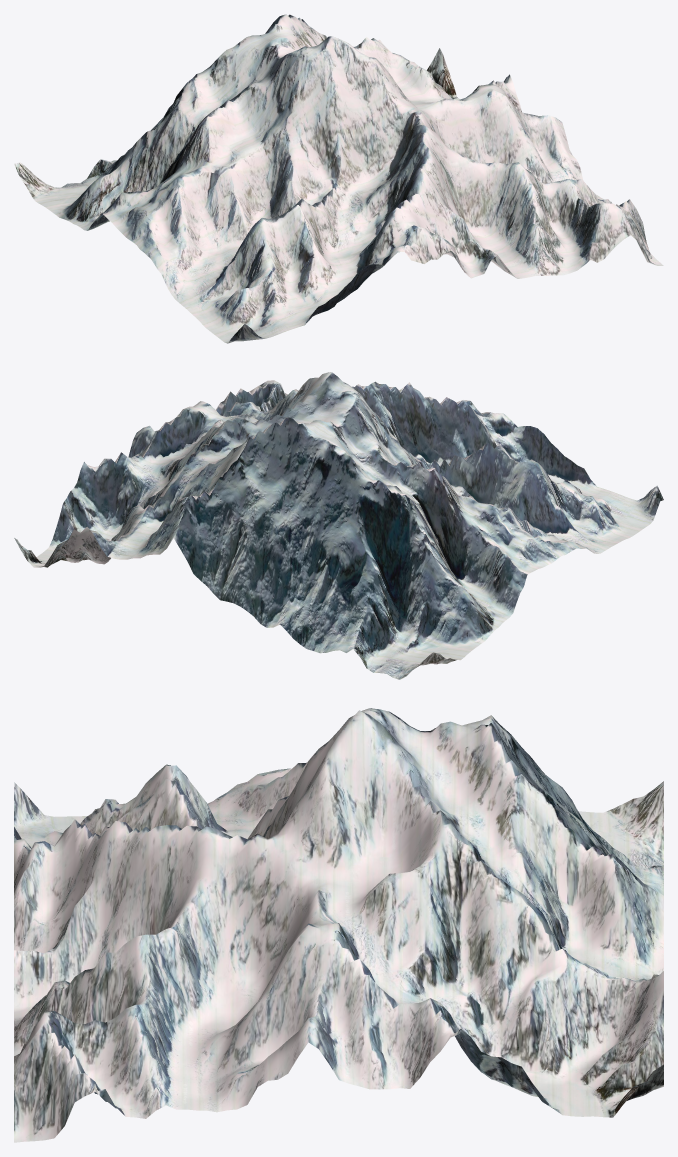
The model's file is denali.glb.
3 views of the same model, one above another, from view 1: azimuth 30°, elevation 25°; view 2: azimuth 150°, elevation 25°; view 3: azimuth 270°, elevation 25° (orthographic). The views are drawn at different scales.
Parts seen in each view (by area): view 1: EXPORT_GOOGLE_SAT_WM; view 2: EXPORT_GOOGLE_SAT_WM; view 3: EXPORT_GOOGLE_SAT_WM.
Part boxes in pixels (box(x1,y1,x2,y2)): EXPORT_GOOGLE_SAT_WM: box(14, 14, 663, 343); EXPORT_GOOGLE_SAT_WM: box(14, 372, 663, 679); EXPORT_GOOGLE_SAT_WM: box(14, 708, 663, 1142).
Size of the model in its own units: 17000 by 7427 by 15512.
Materials: 1 (1 with a texture image).
